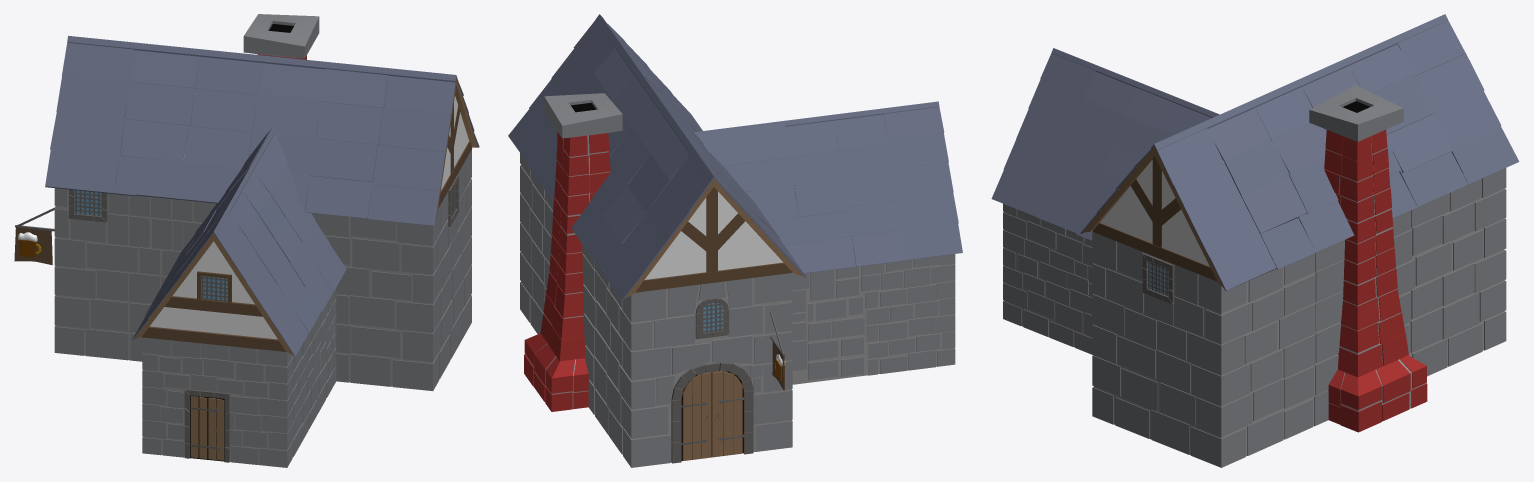
File: House3.fbx
3 views of the same model, side by side, from view 1: azimuth 30°, elevation 25°; view 2: azimuth 150°, elevation 25°; view 3: azimuth 270°, elevation 25° (orthographic). The views are drawn at different scales.
Visible parts, largest first — view 1: polySurface53, polySurface51, polySurface443, polySurface442, polySurface220, polySurface453, polySurface445, polySurface444, polySurface452, polySurface446, polySurface454, polySurface455 (+54 smaller); view 2: polySurface53, polySurface220, polySurface449, polySurface51, polySurface429, polySurface320, polySurface428, polySurface427, polySurface560, polySurface430, polySurface522, polySurface561 (+68 smaller); view 3: polySurface53, polySurface220, polySurface449, polySurface51, polySurface447, polySurface459, polySurface458, polySurface223, polySurface461, polySurface418, polySurface460, polySurface462 (+76 smaller).
Boxes of the visible parts, <box> form: polySurface53: <box>54,35,477,390</box>; polySurface51: <box>134,127,336,467</box>; polySurface443: <box>124,81,382,144</box>; polySurface442: <box>120,119,377,182</box>; polySurface220: <box>243,14,319,59</box>; polySurface453: <box>372,144,445,190</box>; polySurface445: <box>50,112,125,156</box>; polySurface444: <box>45,149,118,193</box>; polySurface452: <box>379,108,451,151</box>; polySurface446: <box>56,76,129,118</box>; polySurface454: <box>368,182,439,225</box>; polySurface455: <box>305,175,371,218</box>; polySurface53: <box>520,14,802,467</box>; polySurface220: <box>524,93,622,411</box>; polySurface449: <box>549,75,670,243</box>; polySurface51: <box>694,101,955,384</box>; polySurface429: <box>897,192,958,230</box>; polySurface320: <box>635,262,792,292</box>; polySurface428: <box>892,162,953,199</box>; polySurface427: <box>888,132,948,169</box>; polySurface560: <box>723,152,795,191</box>; polySurface430: <box>902,223,962,259</box>; polySurface522: <box>794,178,848,217</box>; polySurface561: <box>737,123,791,163</box>; polySurface53: <box>1082,14,1506,467</box>; polySurface220: <box>1309,84,1427,432</box>; polySurface449: <box>1223,75,1452,233</box>; polySurface51: <box>1003,48,1219,347</box>; polySurface447: <box>1415,53,1484,112</box>; polySurface459: <box>1173,162,1242,221</box>; polySurface458: <box>1190,199,1260,257</box>; polySurface223: <box>1315,240,1344,332</box>; polySurface461: <box>1451,126,1519,184</box>; polySurface418: <box>1060,130,1142,181</box>; polySurface460: <box>1157,128,1224,185</box>; polySurface462: <box>1433,91,1501,146</box>.
Size of the model in its own units: 177 by 119 by 191.
